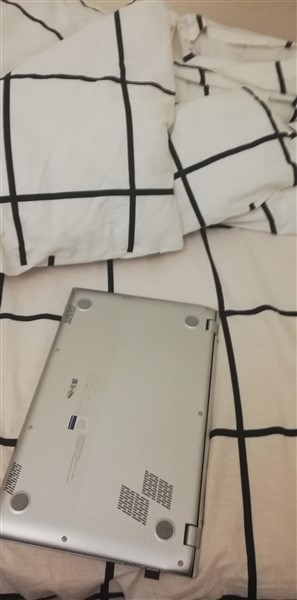laptop: (1, 292, 230, 578)
